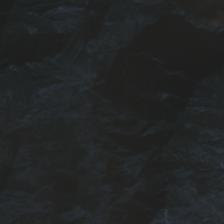landslides: (200, 197, 224, 220)
